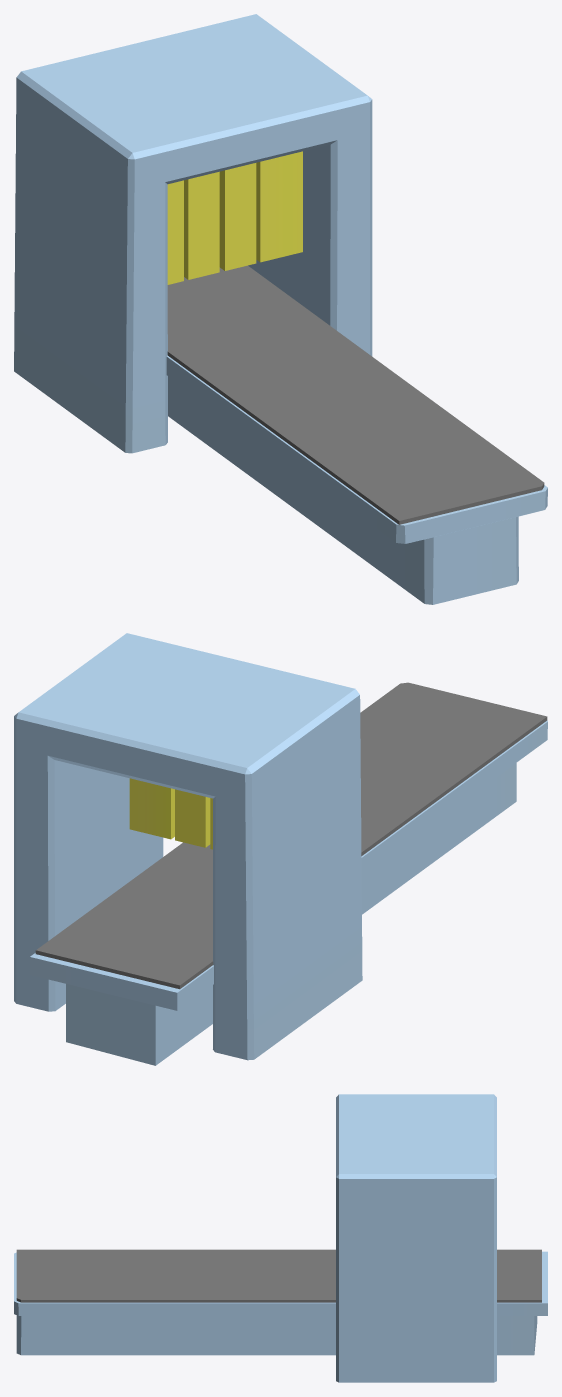
Rendered from SM_Control_Strip_Small.fbx.
The picture shows the model from 3 angles, top to bottom: view 1: azimuth 30°, elevation 25°; view 2: azimuth 150°, elevation 25°; view 3: azimuth 270°, elevation 25°; orthographic projection. The views are drawn at different scales.
Parts seen in each view (by area): view 1: SM_Control_Strip_Small; view 2: SM_Control_Strip_Small; view 3: SM_Control_Strip_Small.
Boxes of the visible parts, x1=… form: SM_Control_Strip_Small: x1=14, y1=14, x2=547, y2=604; SM_Control_Strip_Small: x1=14, y1=633, x2=547, y2=1065; SM_Control_Strip_Small: x1=14, y1=1094, x2=547, y2=1382.
Bounding box in the file's own units: 114 × 132 × 307.
1 material, 1 textured.
